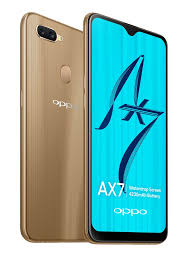oppo: (84, 10, 170, 244), (20, 7, 85, 243)
